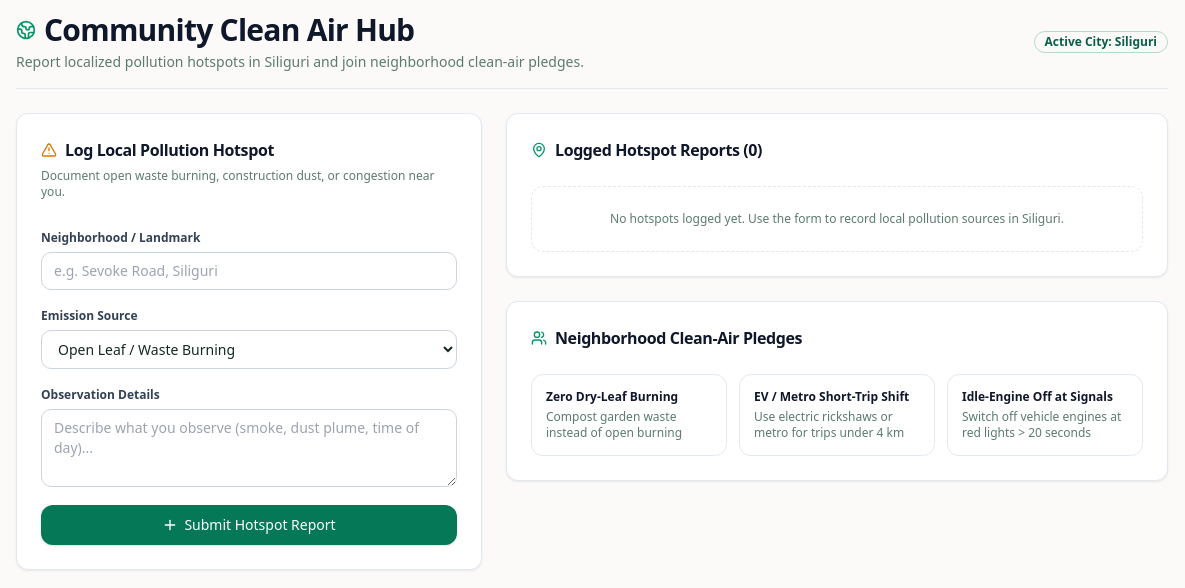
it: Frontend Alignment & Interactive Views › CommunityHubView allows submitting hotspot reports and toggling clean-air pledges
The width and height of the screenshot is (1185, 588).
Type "Sevoke Road" into the field labelled "Neighborhood / Landmark".
click(249, 271); type("Sevoke Road")  # box 41,252 -> 457,290
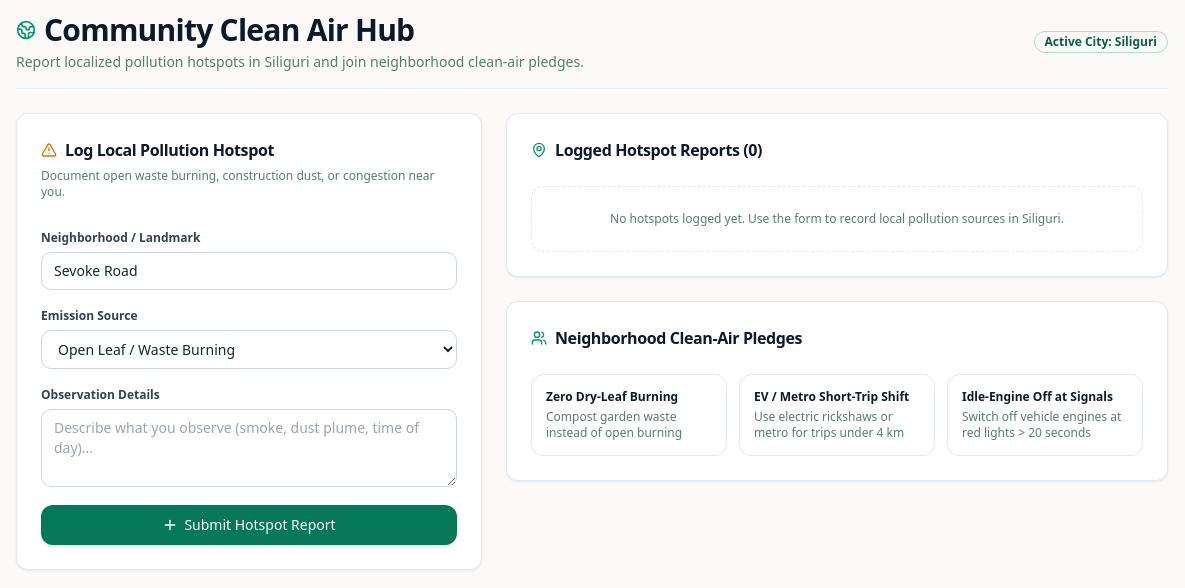
Replace the text in the text box labelled "Observation Details" with "Dry leaf burning near park" at (249, 448), box 41,409 -> 457,487
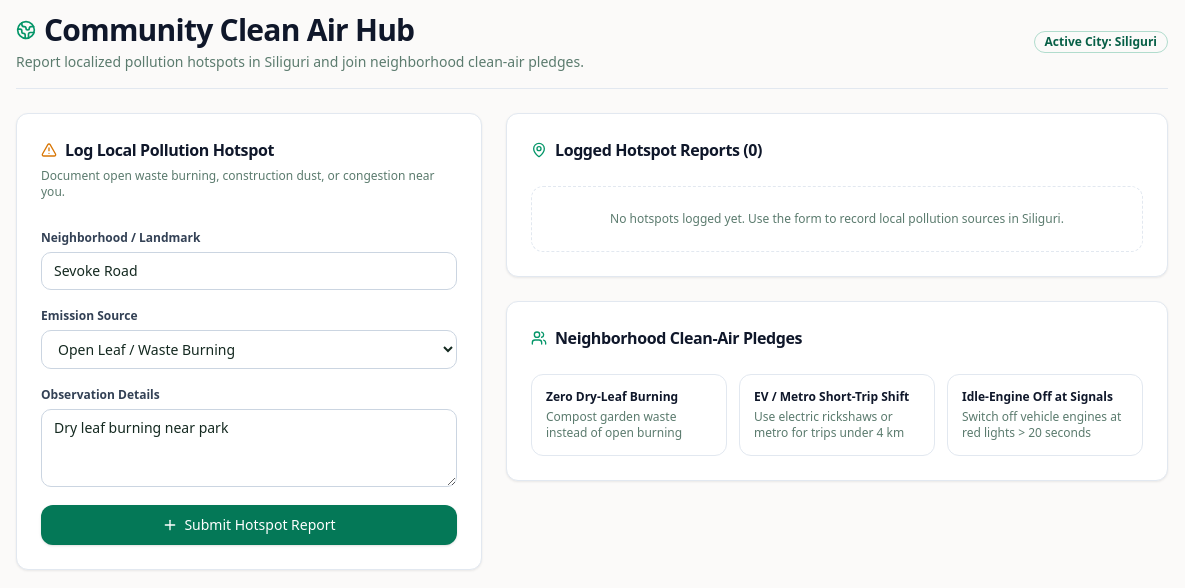
Click the button "Submit Hotspot Report".
click(249, 525)  # box 41,505 -> 457,545
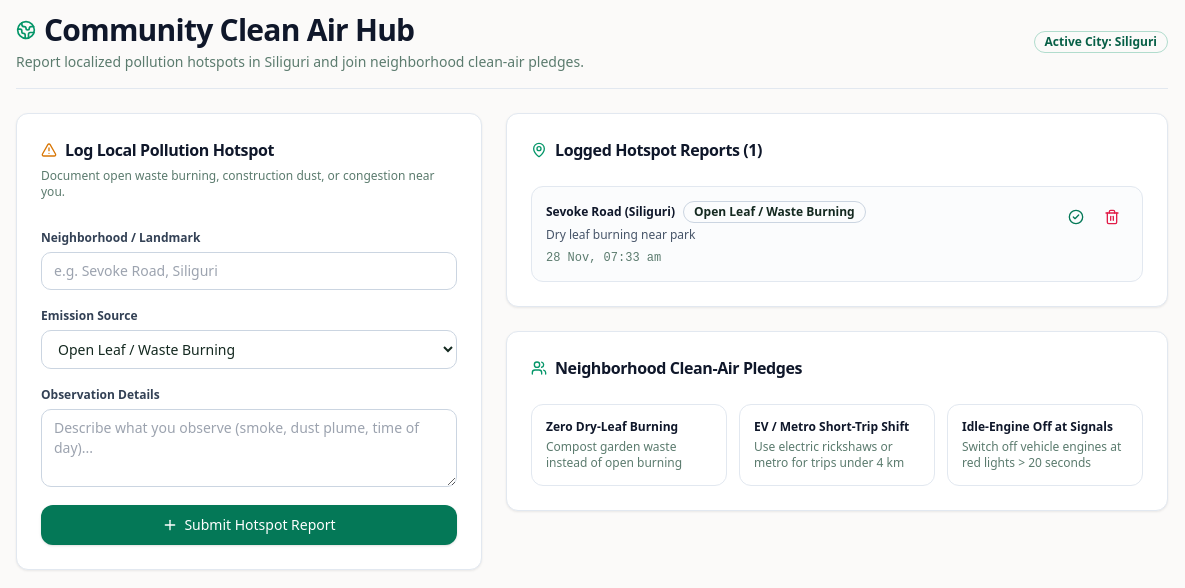
Result: the text "Sevoke Road (Siliguri)" is shown at 546,204 -> 675,220
Result: the text "Dry leaf burning near park" is shown at 546,226 -> 696,243
Click the button "Zero Dry-Leaf Burning".
click(629, 445)  # box 531,404 -> 727,486
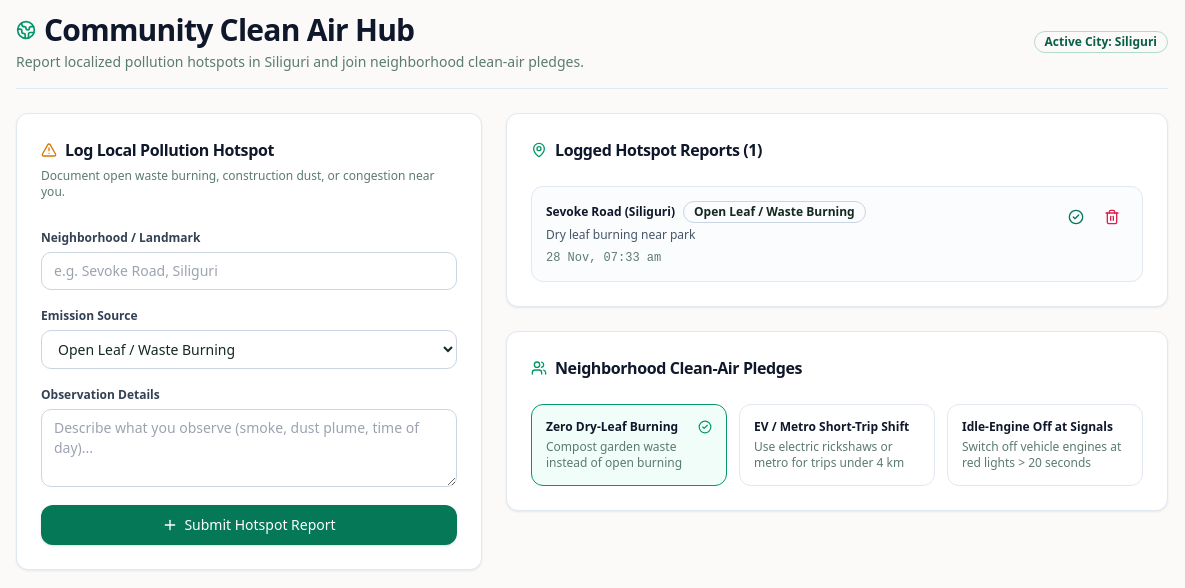
Result: the button "Zero Dry-Leaf Burning" is pressed at 531,404 -> 727,486
